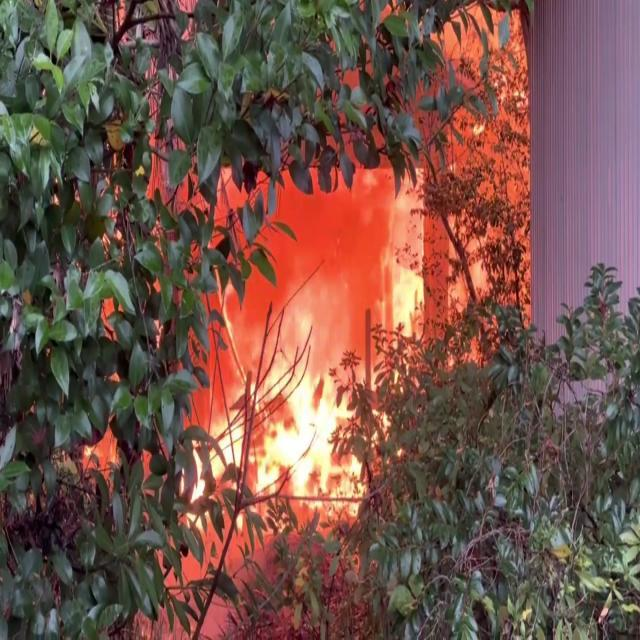Fire: (199, 356, 383, 516)
